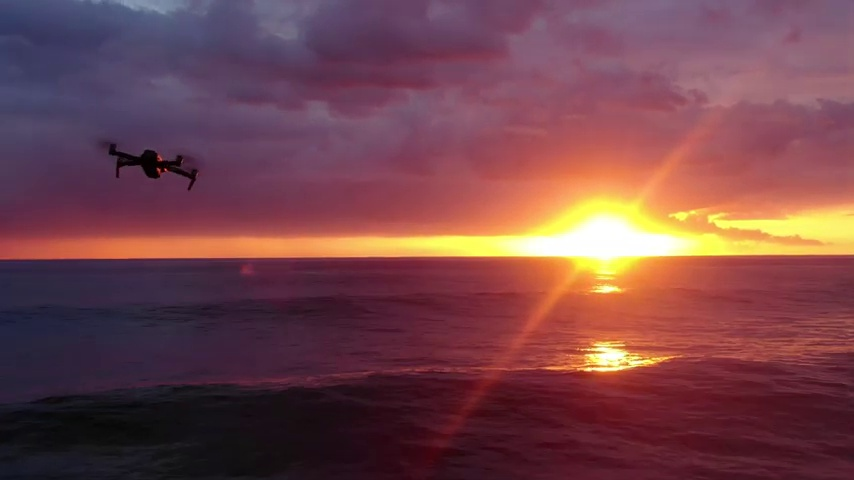drone: (106, 138, 202, 193)
